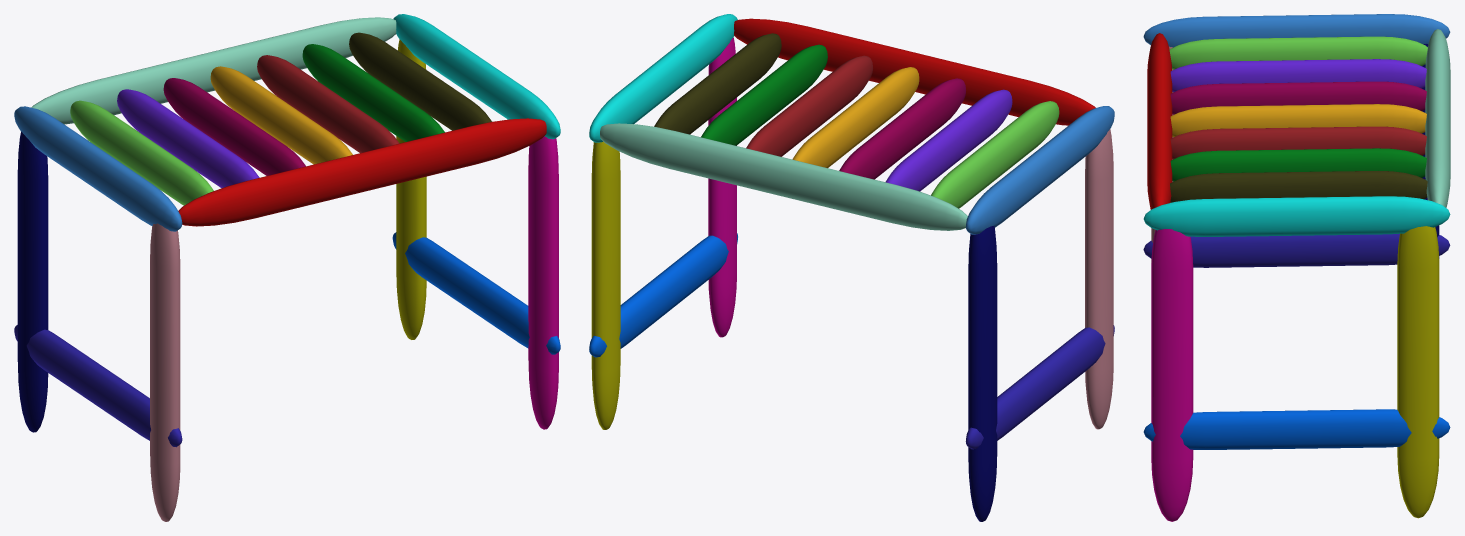
The model's file is Monkey_Bars(1).fbx.
3 views of the same model, side by side, from view 1: azimuth 30°, elevation 25°; view 2: azimuth 150°, elevation 25°; view 3: azimuth 270°, elevation 25° (orthographic).
Visible parts, largest first — view 1: Object016; view 2: Object016; view 3: Object016.
Part boxes in pixels (x1,y1,x2,y2): Object016: (14, 14, 560, 521); Object016: (589, 14, 1114, 521); Object016: (1143, 14, 1450, 521).
Bounding box in the file's own units: 156 × 119 × 103.
